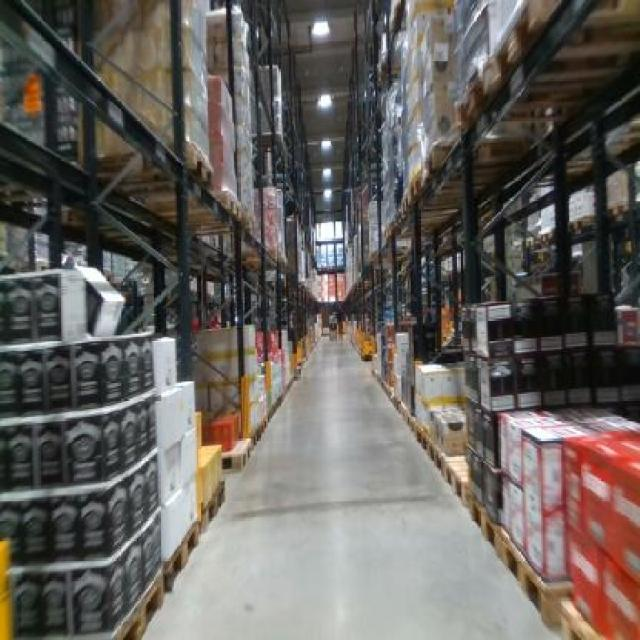pallet: (492, 526, 572, 630), (92, 142, 220, 196), (150, 506, 199, 593), (147, 196, 251, 236), (432, 447, 476, 514), (192, 467, 230, 534), (205, 431, 258, 472)
